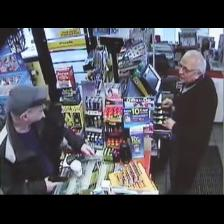person: (0, 85, 94, 194), (162, 50, 217, 194)
